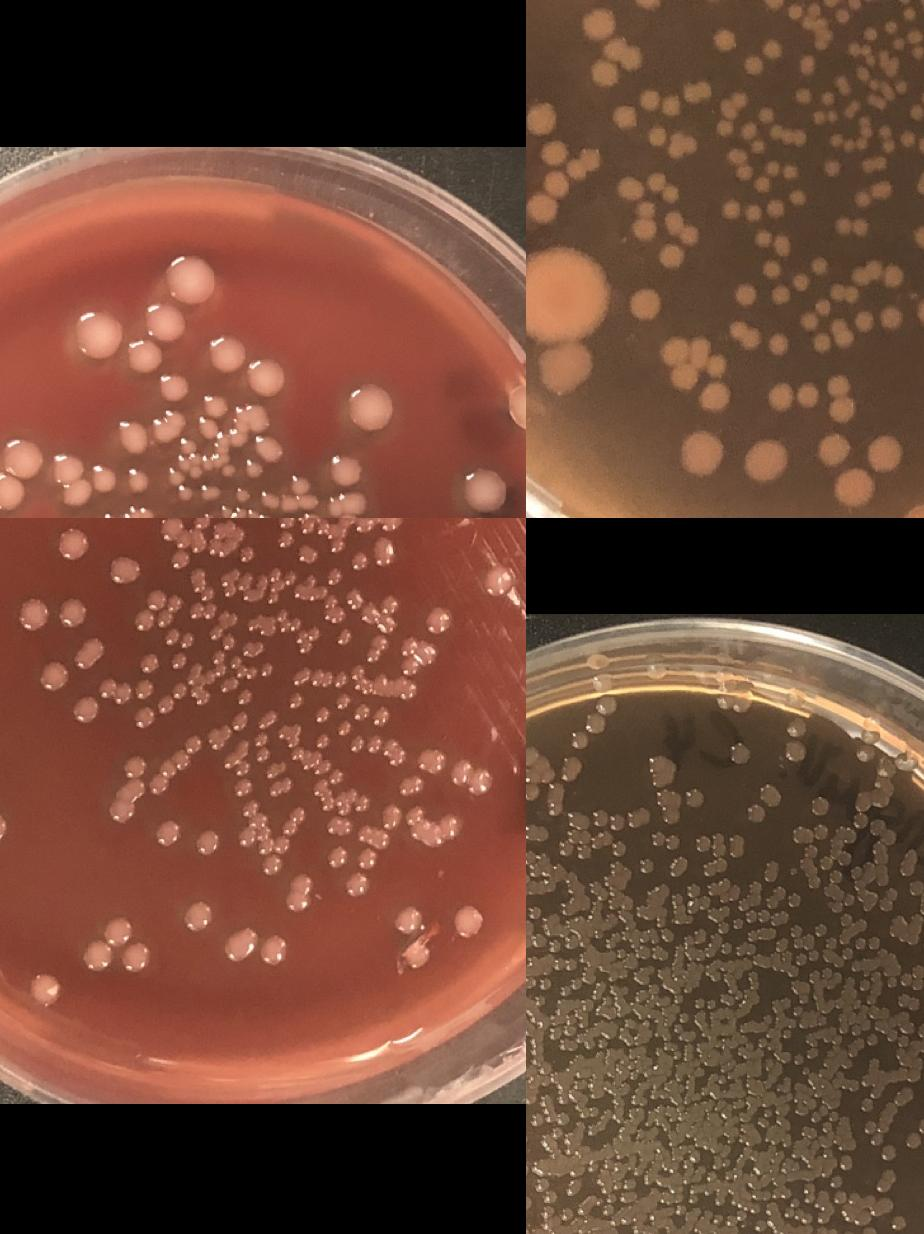pddamselae: (526, 242, 614, 347), (816, 430, 878, 512), (207, 611, 275, 682), (267, 566, 348, 625), (334, 718, 410, 767), (159, 518, 229, 571), (132, 589, 194, 648), (798, 294, 854, 353), (150, 733, 204, 794), (236, 801, 292, 854), (50, 452, 94, 509), (677, 429, 727, 477), (344, 590, 399, 633), (740, 434, 789, 482), (726, 145, 772, 193), (0, 434, 46, 480), (76, 310, 122, 356), (169, 256, 215, 302), (334, 691, 392, 727), (347, 386, 393, 431), (656, 224, 698, 272), (222, 739, 254, 799), (378, 804, 432, 839), (766, 380, 822, 412), (144, 300, 186, 342), (206, 332, 248, 374), (466, 467, 508, 509), (247, 358, 289, 399), (278, 616, 321, 656), (355, 824, 392, 870), (448, 756, 494, 792), (188, 575, 218, 619), (868, 435, 904, 471), (743, 196, 787, 224), (126, 339, 162, 373), (582, 6, 618, 40), (627, 286, 663, 320), (697, 378, 733, 412), (526, 189, 560, 224), (526, 100, 559, 135), (646, 170, 681, 203), (332, 452, 364, 486), (72, 636, 104, 670), (222, 574, 258, 604), (609, 101, 641, 134), (336, 786, 372, 814), (539, 136, 570, 168), (157, 681, 188, 713), (286, 874, 312, 912), (659, 334, 688, 368), (312, 766, 346, 794), (826, 391, 854, 424), (402, 637, 436, 663), (833, 214, 870, 237), (124, 943, 152, 972), (184, 902, 213, 930), (418, 744, 446, 773), (712, 26, 740, 54), (32, 972, 60, 1000), (41, 661, 69, 689), (59, 528, 87, 556), (60, 598, 88, 626), (72, 694, 100, 722), (84, 940, 112, 968), (105, 916, 133, 944), (108, 796, 136, 824), (154, 818, 182, 846), (193, 827, 221, 855), (226, 932, 254, 960), (258, 934, 286, 962), (371, 536, 399, 564), (396, 904, 424, 932), (403, 942, 431, 970), (485, 565, 513, 593), (99, 677, 132, 700), (112, 554, 139, 582), (342, 872, 369, 900), (282, 805, 308, 834), (879, 304, 905, 332), (22, 598, 48, 626), (456, 906, 482, 934), (252, 729, 273, 763), (732, 281, 758, 307), (510, 386, 526, 428), (364, 634, 387, 663), (290, 668, 325, 687), (899, 129, 924, 155), (877, 122, 897, 154), (632, 217, 658, 241), (829, 132, 857, 154), (295, 518, 328, 536), (860, 154, 889, 174), (638, 87, 662, 111), (768, 282, 792, 306), (123, 755, 147, 779), (133, 704, 157, 728), (138, 650, 162, 674), (328, 844, 352, 868), (426, 604, 450, 628), (398, 776, 426, 796), (442, 812, 465, 836), (741, 54, 765, 76), (762, 38, 786, 60), (296, 541, 318, 565), (268, 776, 294, 796), (808, 108, 840, 124), (328, 816, 354, 835), (242, 459, 264, 479), (720, 196, 740, 218), (751, 226, 773, 246), (762, 257, 782, 279), (769, 332, 789, 354), (781, 160, 801, 182), (787, 185, 807, 207), (852, 187, 872, 209), (854, 310, 874, 332), (822, 157, 842, 178), (275, 530, 296, 550), (647, 124, 666, 146), (283, 689, 303, 709), (311, 704, 331, 724), (350, 549, 370, 569), (290, 475, 311, 494), (913, 293, 924, 329), (716, 118, 735, 138), (810, 256, 830, 274), (136, 680, 156, 698), (314, 732, 332, 752), (907, 100, 924, 120), (760, 0, 786, 13), (748, 137, 766, 155), (792, 272, 810, 290), (794, 86, 812, 104), (819, 89, 837, 107), (842, 285, 860, 303), (172, 649, 190, 667), (207, 728, 225, 746), (236, 687, 254, 705), (238, 544, 256, 562), (335, 628, 353, 646), (400, 682, 418, 700), (326, 566, 342, 586), (232, 712, 249, 730), (264, 856, 281, 874), (331, 670, 348, 688), (176, 485, 194, 501), (758, 106, 776, 122), (786, 1, 802, 19), (244, 615, 260, 633), (290, 744, 306, 762), (400, 658, 418, 674), (894, 77, 908, 94), (328, 538, 345, 552), (355, 518, 373, 531), (836, 8, 850, 24), (864, 24, 878, 40), (884, 19, 898, 35), (904, 5, 918, 21), (186, 670, 200, 686), (191, 518, 211, 529), (222, 463, 236, 477), (858, 42, 872, 56), (892, 36, 906, 50), (912, 43, 924, 59), (274, 518, 294, 527), (268, 592, 281, 604)
vangil: (650, 754, 682, 826), (732, 898, 790, 930), (862, 1120, 897, 1162), (592, 807, 651, 831), (885, 963, 924, 992), (786, 949, 822, 978), (534, 1177, 558, 1219), (842, 935, 882, 959), (594, 672, 616, 713), (540, 1096, 570, 1125), (650, 830, 682, 851), (874, 1167, 898, 1193), (618, 1016, 638, 1046), (684, 880, 702, 913), (531, 930, 560, 950), (702, 856, 728, 876), (879, 886, 899, 912), (526, 822, 551, 841), (728, 832, 746, 858), (886, 1028, 910, 1047), (668, 855, 688, 877), (647, 660, 668, 680), (562, 756, 582, 776), (569, 730, 589, 750), (730, 743, 750, 763), (786, 741, 806, 761), (787, 717, 807, 737), (810, 794, 830, 814), (856, 743, 876, 763), (876, 756, 896, 776), (585, 713, 604, 733), (685, 787, 704, 807), (746, 804, 766, 823), (763, 788, 782, 808), (898, 994, 921, 1010), (589, 980, 608, 999), (726, 983, 746, 1001), (764, 860, 780, 882), (611, 840, 629, 858), (638, 856, 656, 874), (694, 833, 712, 851), (890, 1214, 908, 1232), (898, 858, 916, 876), (903, 1130, 921, 1148), (526, 903, 543, 921), (554, 957, 577, 970), (694, 997, 718, 1009), (908, 878, 924, 896), (580, 1105, 600, 1119), (694, 1012, 709, 1030), (526, 746, 539, 766), (751, 1188, 772, 1200), (708, 1072, 728, 1084), (636, 989, 650, 1003), (661, 928, 675, 942), (694, 928, 708, 942), (720, 941, 734, 955), (754, 1218, 768, 1232), (772, 885, 786, 899), (782, 1205, 796, 1219), (788, 892, 802, 906), (792, 1052, 806, 1066), (814, 922, 828, 936), (814, 824, 828, 838), (828, 1108, 842, 1122), (829, 869, 843, 883), (840, 913, 854, 927), (843, 892, 857, 906), (847, 1078, 861, 1092), (860, 1098, 874, 1112), (867, 1032, 881, 1046), (868, 1056, 882, 1070), (907, 1068, 921, 1082), (530, 1113, 544, 1125), (558, 984, 572, 996), (560, 1208, 574, 1220), (672, 992, 686, 1004), (686, 1194, 700, 1206), (716, 922, 730, 934), (746, 928, 758, 942), (789, 924, 803, 936), (820, 856, 834, 868), (635, 1128, 648, 1140), (709, 969, 722, 981), (714, 1195, 727, 1207), (750, 1202, 763, 1214), (526, 1193, 534, 1211), (540, 977, 552, 989), (551, 1125, 563, 1137), (565, 936, 577, 948), (572, 977, 584, 989), (597, 1037, 609, 1049), (618, 983, 630, 995), (625, 1178, 637, 1190), (638, 1095, 650, 1107), (639, 946, 651, 958), (648, 982, 660, 994), (657, 948, 669, 960), (678, 1011, 690, 1023), (693, 1065, 705, 1077), (704, 1184, 716, 1196), (706, 1169, 718, 1181), (721, 1156, 733, 1168), (766, 1202, 778, 1214), (780, 1187, 792, 1199), (781, 1136, 793, 1148), (564, 1024, 575, 1036), (674, 1203, 685, 1215), (839, 1227, 857, 1234), (917, 1116, 924, 1133), (919, 901, 924, 914)
